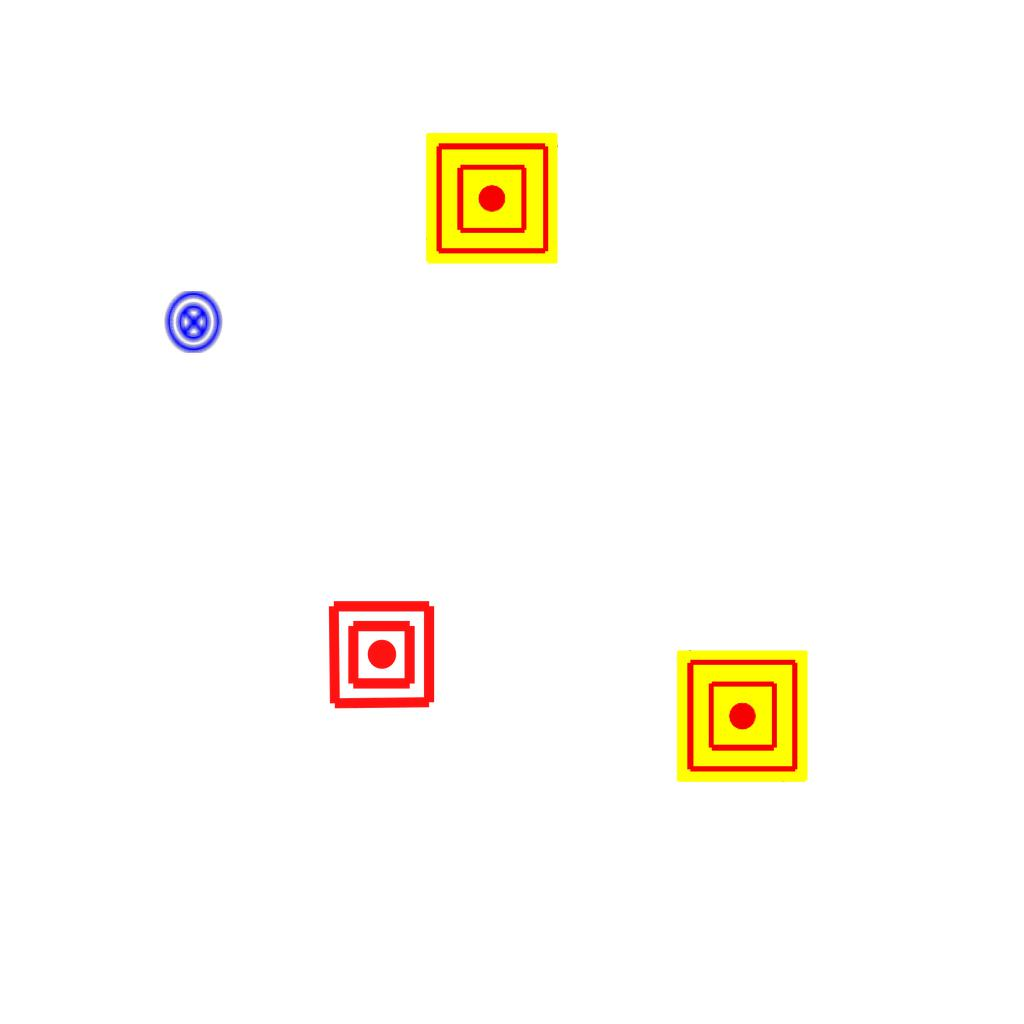NAM-Nichtautomatischer_Melder: (426, 132, 558, 264), (676, 650, 808, 782), (325, 598, 438, 711)
Taster_beleuchtet: (161, 289, 227, 355)
